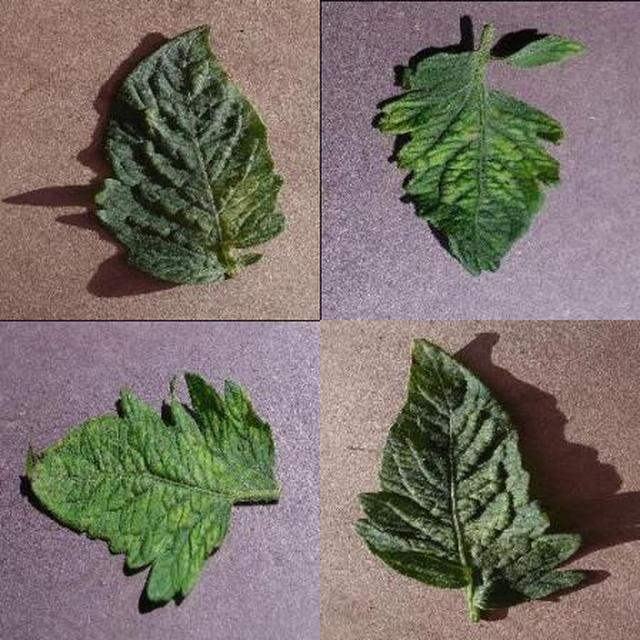Spider Mites Leaf: (214, 221, 640, 640)
